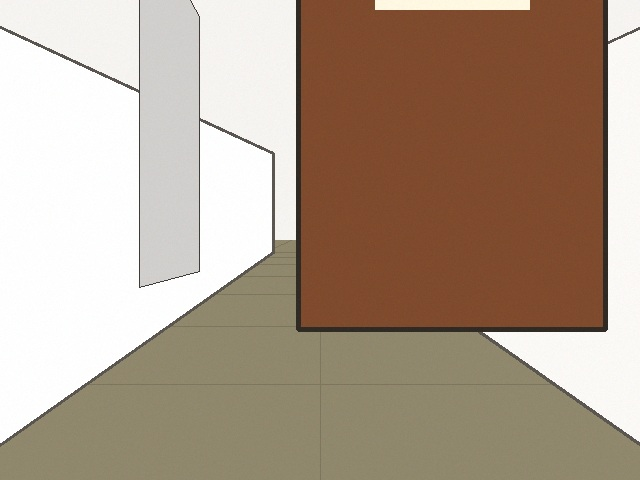box: (394, 185, 516, 274)
charging_station: (331, 176, 389, 273)
directional_sign: (395, 171, 454, 208)
door: (298, 0, 605, 329)
